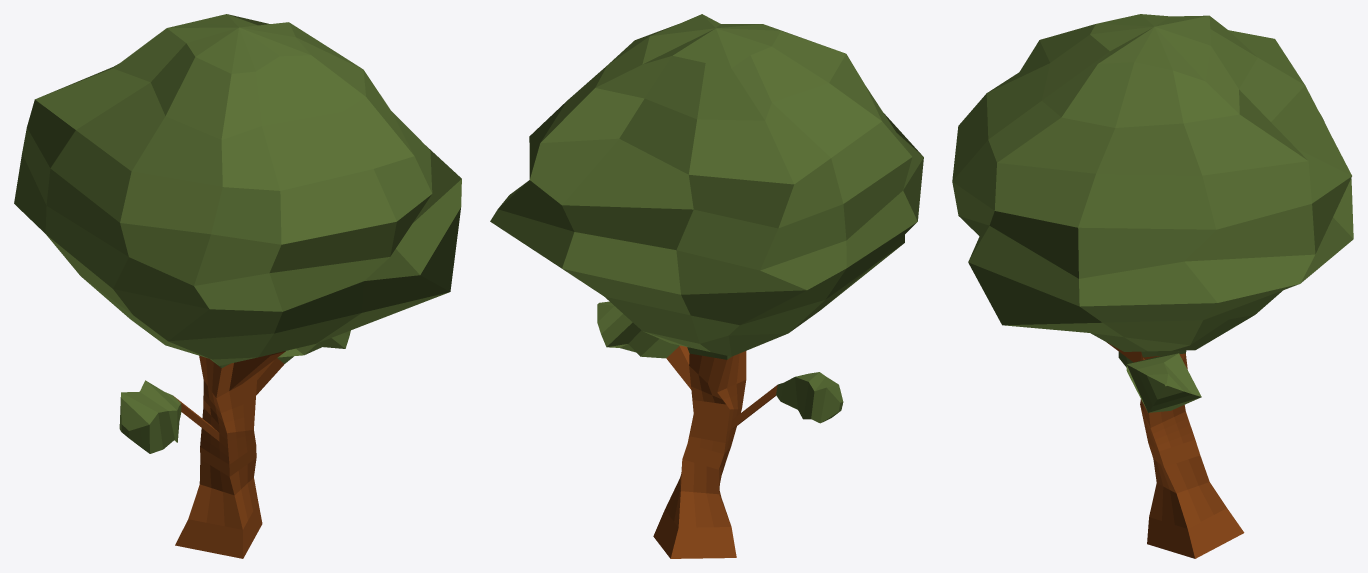
The model's file is tree.obj.
3 views of the same model, side by side, from view 1: azimuth 30°, elevation 25°; view 2: azimuth 150°, elevation 25°; view 3: azimuth 270°, elevation 25° (orthographic). The views are drawn at different scales.
Parts seen in each view (by area): view 1: Cube; view 2: Cube; view 3: Cube.
Boxes of the visible parts, box(x1,y1,x2,y2) form: Cube: box(14, 14, 461, 558); Cube: box(490, 14, 923, 558); Cube: box(952, 14, 1353, 558).
Size of the model in its own units: 1.62 by 2.33 by 1.64.
